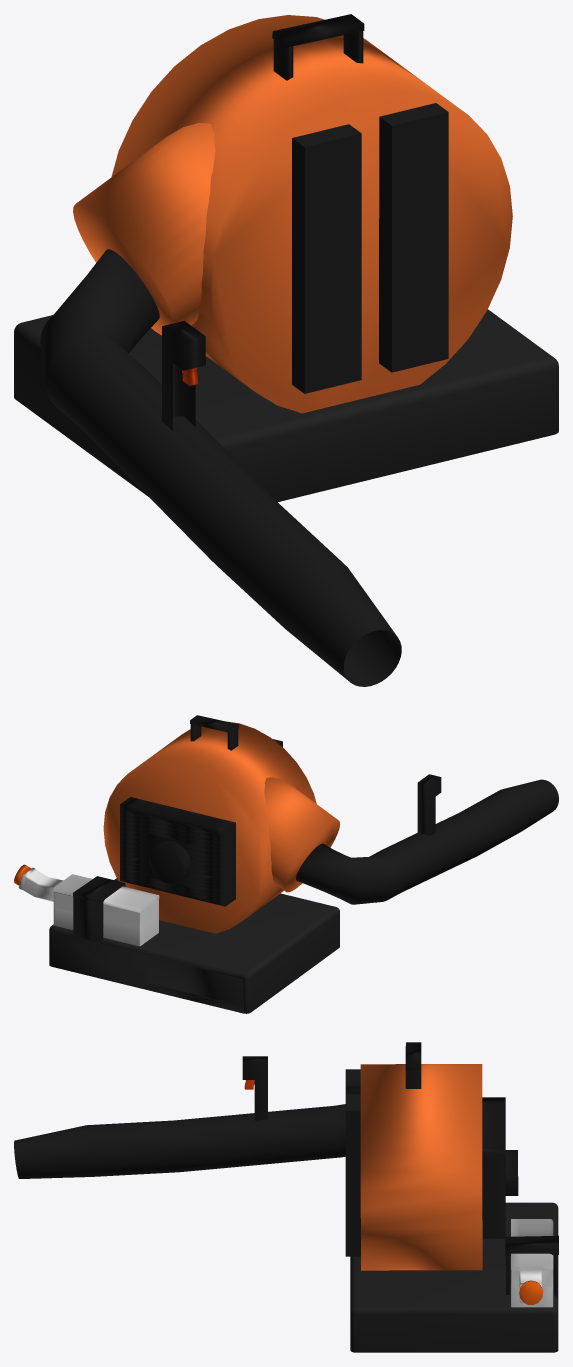
The model's file is Fan.glb.
3 renders of one model, top to bottom at view 1: azimuth 30°, elevation 25°; view 2: azimuth 150°, elevation 25°; view 3: azimuth 270°, elevation 25°, orthographic. The views are drawn at different scales.
Parts seen in each view (by area): view 1: Cube.004; view 2: Cube.004; view 3: Cube.004.
Part boxes in pixels (box(x1,y1,x2,y2)): Cube.004: box(14, 14, 558, 686); Cube.004: box(14, 715, 558, 1013); Cube.004: box(14, 1042, 558, 1352).
Bounding box in the file's own units: 1.23 × 0.8296 × 1.68.
